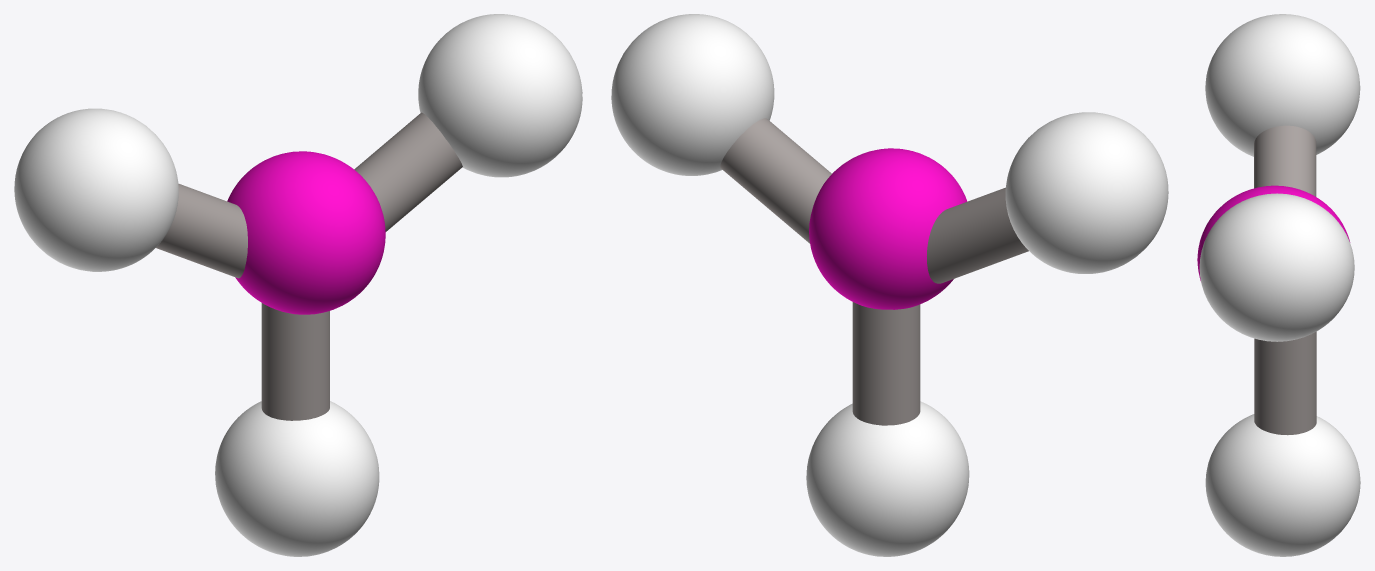
File: trigonalplanar.fbx
The picture shows the model from 3 angles, left to right: view 1: azimuth 30°, elevation 25°; view 2: azimuth 150°, elevation 25°; view 3: azimuth 270°, elevation 25°; orthographic projection. The views are drawn at different scales.
Visible parts, largest first — view 1: root (×7); view 2: root (×7); view 3: root (×6).
Boxes of the visible parts, x1,y1,x2,y2 form: root (×7): (14, 14, 582, 556); root (×7): (611, 14, 1168, 556); root (×6): (1197, 14, 1360, 556).
Size of the model in its own units: 0.5904 by 0.5016 by 0.1688.
5 materials, 5 textured.
